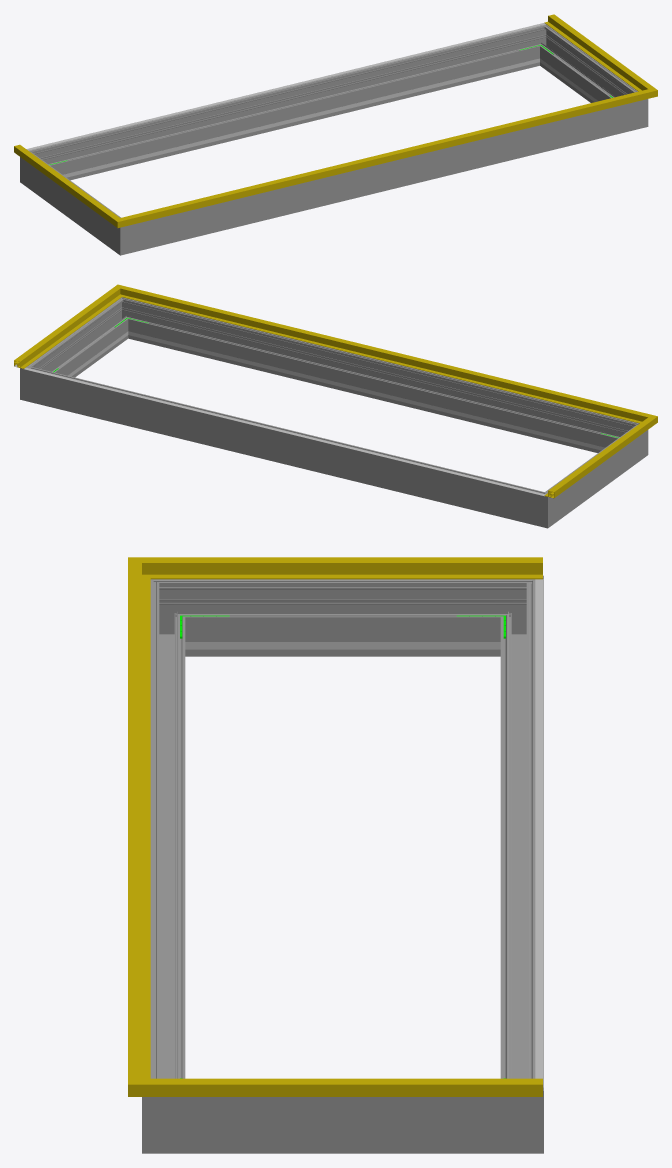
The picture shows the model from 3 angles, top to bottom: view 1: azimuth 30°, elevation 25°; view 2: azimuth 150°, elevation 25°; view 3: azimuth 270°, elevation 25°; orthographic projection. The views are drawn at different scales.
Visible parts, largest first — view 1: 3DGeom-276, 3DGeom-298, 3DGeom-123, 3DGeom-297, 3DGeom-268, 3DGeom-244, 3DGeom-128, 3DGeom-220, 3DGeom-118, 3DGeom-270, 3DGeom-284, 3DGeom-290 (+2 smaller); view 2: 3DGeom-298, 3DGeom-276, 3DGeom-123, 3DGeom-297, 3DGeom-268, 3DGeom-239, 3DGeom-128, 3DGeom-220, 3DGeom-118, 3DGeom-278, 3DGeom-284, 3DGeom-290 (+2 smaller); view 3: 3DGeom-268, 3DGeom-297, 3DGeom-276, 3DGeom-298, 3DGeom-123, 3DGeom-118, 3DGeom-128, 3DGeom-220, 3DGeom-284, 3DGeom-290, 3DGeom-278, 3DGeom-270 (+3 smaller).
Part boxes in pixels (x1,y1,x2,y2): 3DGeom-276: [44, 29, 536, 180]; 3DGeom-298: [142, 104, 625, 249]; 3DGeom-123: [137, 93, 635, 222]; 3DGeom-297: [542, 32, 631, 102]; 3DGeom-268: [33, 158, 114, 245]; 3DGeom-244: [71, 64, 518, 176]; 3DGeom-128: [544, 14, 644, 88]; 3DGeom-220: [26, 23, 545, 150]; 3DGeom-118: [14, 144, 110, 218]; 3DGeom-270: [107, 213, 142, 255]; 3DGeom-284: [527, 24, 557, 66]; 3DGeom-290: [626, 87, 648, 131]; 3DGeom-298: [132, 302, 623, 452]; 3DGeom-276: [42, 370, 529, 522]; 3DGeom-123: [135, 290, 634, 420]; 3DGeom-297: [36, 305, 125, 377]; 3DGeom-268: [554, 431, 635, 518]; 3DGeom-239: [150, 336, 596, 449]; 3DGeom-128: [14, 294, 114, 368]; 3DGeom-220: [24, 367, 545, 496]; 3DGeom-118: [544, 424, 644, 498]; 3DGeom-278: [525, 486, 560, 528]; 3DGeom-284: [20, 359, 45, 404]; 3DGeom-290: [111, 297, 140, 339]; 3DGeom-268: [194, 579, 491, 656]; 3DGeom-297: [194, 1097, 491, 1153]; 3DGeom-276: [500, 597, 543, 1078]; 3DGeom-298: [150, 597, 185, 1078]; 3DGeom-123: [128, 579, 150, 1074]; 3DGeom-118: [180, 557, 542, 579]; 3DGeom-128: [180, 1078, 542, 1096]; 3DGeom-220: [535, 579, 543, 1087]; 3DGeom-284: [492, 1069, 543, 1153]; 3DGeom-290: [142, 1069, 193, 1153]; 3DGeom-278: [492, 575, 543, 656]; 3DGeom-270: [150, 579, 193, 656].
Size of the model in its own units: 3.66 by 0.2434 by 1.22.
